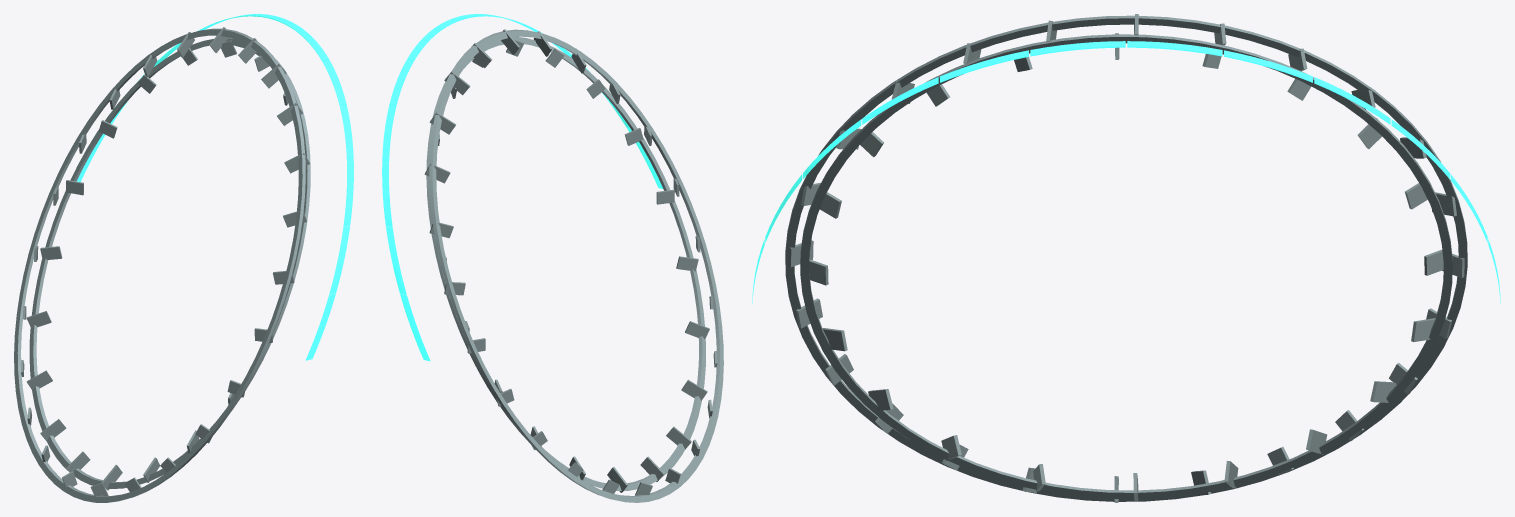
Rendered from Weather_Lung_Chunk_Nozzle_Guide.glb.
The picture shows the model from 3 angles, left to right: view 1: azimuth 30°, elevation 25°; view 2: azimuth 150°, elevation 25°; view 3: azimuth 270°, elevation 25°; orthographic projection. The views are drawn at different scales.
Parts seen in each view (by area): view 1: Guide_Ring_A_band, Guide_Ring_B_band, Guide_Ring_A, Nozzle_Guide_Structure, Guide_Ring_B; view 2: Guide_Ring_A_band, Guide_Ring_B_band, Guide_Ring_A, Nozzle_Guide_Structure, Guide_Ring_B; view 3: Guide_Ring_B_band, Guide_Ring_A_band, Guide_Ring_B, Guide_Ring_A, Nozzle_Guide_Structure.
Boxes of the visible parts, box(x1,y1,x2,y2) form: Guide_Ring_A_band: box(14, 28, 305, 502); Guide_Ring_B_band: box(29, 37, 310, 488); Guide_Ring_A: box(21, 27, 309, 496); Nozzle_Guide_Structure: box(76, 14, 353, 360); Guide_Ring_B: box(26, 40, 287, 490); Guide_Ring_A_band: box(429, 29, 723, 502); Guide_Ring_B_band: box(426, 37, 705, 490); Guide_Ring_A: box(424, 29, 717, 495); Nozzle_Guide_Structure: box(382, 14, 663, 361); Guide_Ring_B: box(438, 39, 709, 492); Guide_Ring_B_band: box(800, 34, 1452, 499); Guide_Ring_A_band: box(785, 15, 1467, 501); Guide_Ring_B: box(809, 33, 1443, 500); Guide_Ring_A: box(788, 14, 1464, 502); Nozzle_Guide_Structure: box(752, 41, 1500, 304).
Bounding box in the file's own units: 5212 × 8229 × 8700.
